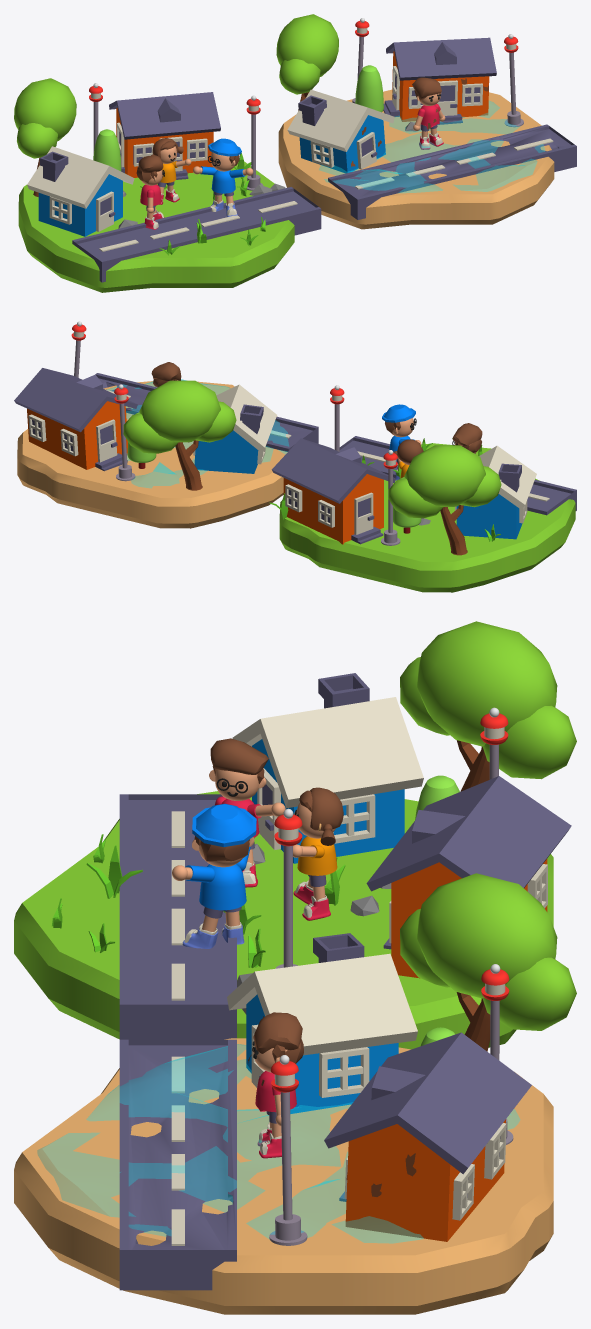
3 views of the same model, one above another, from view 1: azimuth 30°, elevation 25°; view 2: azimuth 150°, elevation 25°; view 3: azimuth 270°, elevation 25° (orthographic). The views are drawn at different scales.
Visible parts, largest first — view 1: Plane.010, Plane.020, Cube.091, Cube.089, Plane.046, Cube.005, Cube.037, Cube.071, Cube.051, Icosphere.003, Icosphere.005, Cube.050 (+25 smaller); view 2: Plane.010, Plane.020, Icosphere.005, Icosphere.003, Cube.005, Cube.037, Cube.004, Cube.038, Cube.050, Cube.070, Cube.089, Cube.091 (+23 smaller); view 3: Plane.010, Plane.020, Cube.091, Plane.046, Cube.089, Cube.037, Cube.051, Cube.071, Cube.005, Icosphere.005, Icosphere.003, Cube.038 (+30 smaller).
Boxes of the visible parts, <box> form: Plane.010: <box>278,89,554,229</box>; Plane.020: <box>18,161,294,292</box>; Cube.091: <box>328,124,576,219</box>; Cube.089: <box>72,187,321,282</box>; Plane.046: <box>319,101,544,192</box>; Cube.005: <box>109,92,220,139</box>; Cube.037: <box>386,37,496,80</box>; Cube.071: <box>287,89,394,151</box>; Cube.051: <box>27,146,134,208</box>; Icosphere.003: <box>14,78,76,140</box>; Icosphere.005: <box>276,14,338,76</box>; Cube.050: <box>38,174,122,236</box>; Plane.010: <box>17,380,287,528</box>; Plane.020: <box>279,443,575,592</box>; Icosphere.005: <box>139,380,220,442</box>; Icosphere.003: <box>404,445,485,506</box>; Cube.005: <box>271,438,395,503</box>; Cube.037: <box>14,368,137,432</box>; Cube.004: <box>283,474,383,544</box>; Cube.038: <box>27,401,127,469</box>; Cube.050: <box>456,494,522,539</box>; Cube.070: <box>194,430,258,473</box>; Cube.089: <box>339,436,576,515</box>; Cube.091: <box>95,373,318,451</box>; Plane.010: <box>14,1038,553,1314</box>; Plane.020: <box>14,791,553,1049</box>; Cube.091: <box>119,1039,236,1290</box>; Plane.046: <box>37,1044,519,1243</box>; Cube.089: <box>119,794,236,1039</box>; Cube.037: <box>324,1032,531,1174</box>; Cube.051: <box>232,697,423,808</box>; Cube.071: <box>227,953,417,1055</box>; Cube.005: <box>366,776,571,891</box>; Icosphere.005: <box>417,873,557,998</box>; Icosphere.003: <box>417,621,557,746</box>; Cube.038: <box>345,1119,505,1241</box>.
Bounding box in the file's own units: 0.7601 × 0.1989 × 0.3806.
